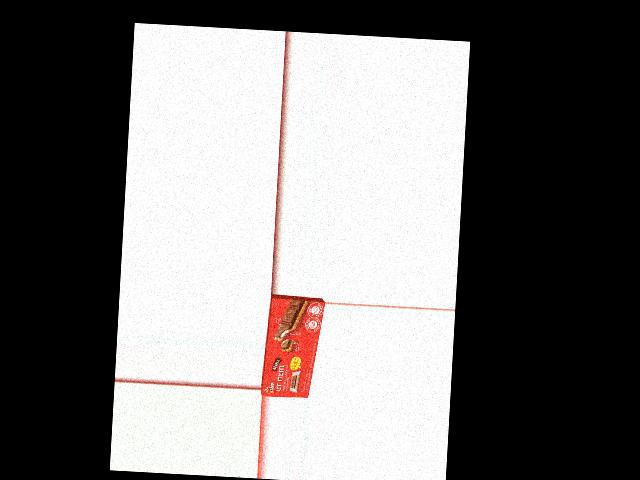chocolate: (264, 295, 319, 399)
